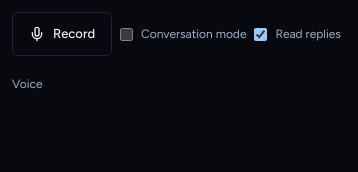
Test case: compact voice conversation controls › shows one actionable error and keeps browser diagnostics inside a disclosure
What coordinates should you click on to do the following:
click the button "Record"
I would click on:
 (62, 34)
Its box is x1=12 y1=12 x2=112 y2=56.
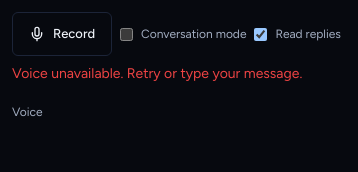
Now the message shows "Retry or type your message", box x1=12 y1=65 x2=302 y2=82
